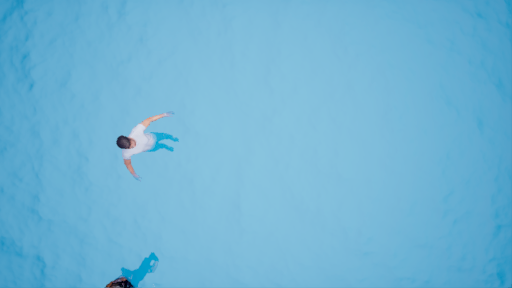person: (109, 99, 179, 176), (94, 243, 165, 288)
